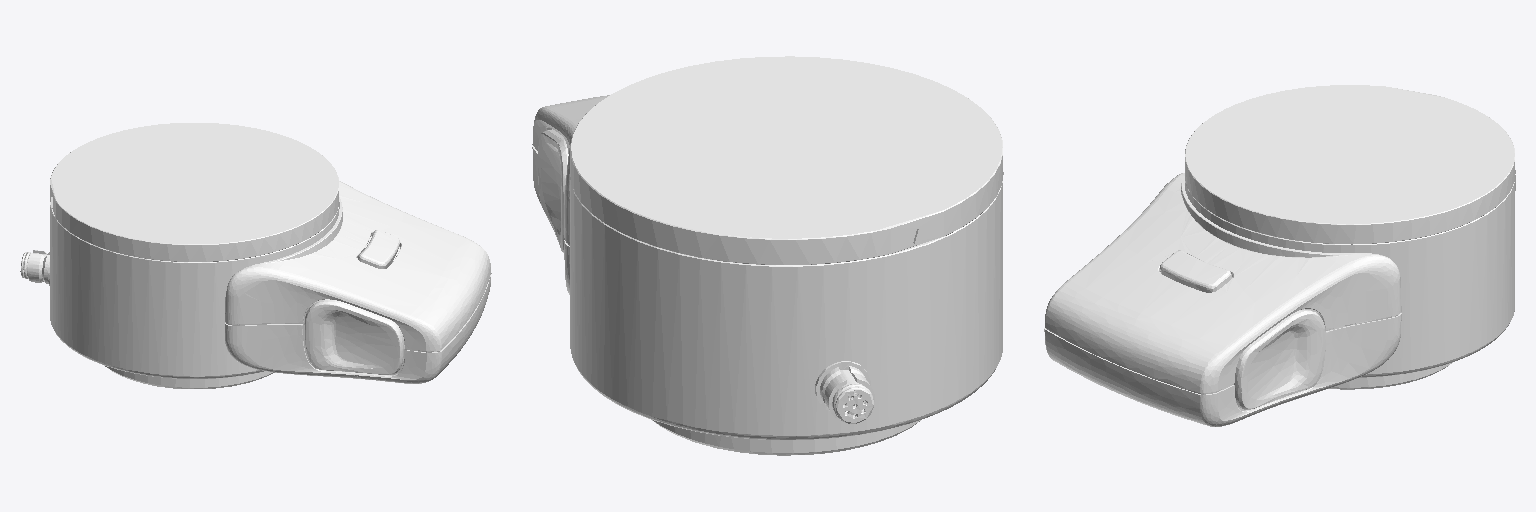
URDF robot description (panda):
<?xml version="1.0"?>
<!-- =================================================================================== -->
<!-- |    This document was autogenerated by xacro from panda_arm.urdf.xacro           | -->
<!-- |    EDITING THIS FILE BY HAND IS NOT RECOMMENDED                                 | -->
<!-- =================================================================================== -->
<robot name="panda">
  <link name="world"/>
  <joint name="panda_joint_world" type="fixed">
    <parent link="world"/>
    <child link="panda_link0"/>
    <origin rpy="0 0 0" xyz="0 0 0"/>
  </joint>
  <link name="panda_link0">
    <inertial>
      <mass value="2.92"/>
      <origin rpy="0 0 0" xyz="-0.025566 -2.88e-05 0.057332"/>
      <inertia ixx="0.00782229414331" ixy="-1.56191622996e-05" ixz="-0.00126005738123" iyy="0.0109027971813" iyz="1.08233858202e-05" izz="0.0102355503949"/>
    </inertial>
    <visual>
      <origin rpy="0 0 0" xyz="0 0 0"/>
      <geometry>
        <mesh filename="meshes/visual/link0.dae"/>
      </geometry>
      <material name="">
        <color rgba="1 1 1 1"/>
      </material>
    </visual>
    <collision>
      <origin rpy="0 0 0" xyz="0 0 0"/>
      <geometry>
        <mesh filename="meshes/collision/link0.stl"/>
      </geometry>
    </collision>
  </link>
  <link name="panda_link1">
    <inertial>
      <mass value="2.74"/>
      <origin rpy="0 0 0" xyz="0 -0.0324958 -0.0675818"/>
      <inertia ixx="0.0180416958283" ixy="0.0" ixz="0.0" iyy="0.0159136071891" iyz="0.0046758424612" izz="0.00620690827127"/>
    </inertial>
    <visual>
      <origin rpy="0 0 0" xyz="0 0 0"/>
      <geometry>
        <mesh filename="meshes/visual/link1.obj"/>
      </geometry>
      <material name="">
        <color rgba="1 1 1 1"/>
      </material>
    </visual>
    <collision>
      <origin rpy="0 0 0" xyz="0 0 0"/>
      <geometry>
        <mesh filename="meshes/collision/link1.stl"/>
      </geometry>
    </collision>
  </link>
  <joint name="panda_joint1" type="revolute">
    <safety_controller k_position="100.0" k_velocity="40.0" soft_lower_limit="-2.8973" soft_upper_limit="2.8973"/>
    <origin rpy="0 0 0" xyz="0 0 0.333"/>
    <parent link="panda_link0"/>
    <child link="panda_link1"/>
    <axis xyz="0 0 1"/>
    <limit effort="87" lower="-2.8973" upper="2.8973" velocity="2.1750"/>
  </joint>
  <link name="panda_link2">
    <inertial>
      <mass value="2.74"/>
      <origin rpy="0 0 0" xyz="0 -0.06861 0.0322285"/>
      <inertia ixx="0.0182856182281" ixy="0.0" ixz="0.0" iyy="0.00621358421175" iyz="-0.00472844221905" izz="0.0161514346309"/>
    </inertial>
    <visual>
      <origin rpy="0 0 0" xyz="0 0 0"/>
      <geometry>
        <mesh filename="meshes/visual/link2.obj"/>
      </geometry>
      <material name="">
        <color rgba="1 1 1 1"/>
      </material>
    </visual>
    <collision>
      <origin rpy="0 0 0" xyz="0 0 0"/>
      <geometry>
        <mesh filename="meshes/collision/link2.stl"/>
      </geometry>
    </collision>
  </link>
  <joint name="panda_joint2" type="revolute">
    <safety_controller k_position="100.0" k_velocity="40.0" soft_lower_limit="-1.7628" soft_upper_limit="1.7628"/>
    <origin rpy="-1.57079632679 0 0" xyz="0 0 0"/>
    <parent link="panda_link1"/>
    <child link="panda_link2"/>
    <axis xyz="0 0 1"/>
    <limit effort="87" lower="-1.7628" upper="1.7628" velocity="2.1750"/>
  </joint>
  <link name="panda_link3">
    <inertial>
      <mass value="2.38"/>
      <origin rpy="0 0 0" xyz="0.0469893 0.0316374 -0.031704"/>
      <inertia ixx="0.00771376630908" ixy="-0.00248490625138" ixz="-0.00332147581033" iyy="0.00989108008727" iyz="-0.00217796151484" izz="0.00811723558464"/>
    </inertial>
    <visual>
      <origin rpy="0 0 0" xyz="0 0 0"/>
      <geometry>
        <mesh filename="meshes/visual/link3.obj"/>
      </geometry>
      <material name="panda_white"/>
    </visual>
    <collision>
      <origin rpy="0 0 0" xyz="0 0 0"/>
      <geometry>
        <mesh filename="meshes/collision/link3.stl"/>
      </geometry>
    </collision>
  </link>
  <joint name="panda_joint3" type="revolute">
    <safety_controller k_position="100.0" k_velocity="40.0" soft_lower_limit="-2.8973" soft_upper_limit="2.8973"/>
    <origin rpy="1.57079632679 0 0" xyz="0 -0.316 0"/>
    <parent link="panda_link2"/>
    <child link="panda_link3"/>
    <axis xyz="0 0 1"/>
    <limit effort="87" lower="-2.8973" upper="2.8973" velocity="2.1750"/>
  </joint>
  <link name="panda_link4">
    <inertial>
      <mass value="2.38"/>
      <origin rpy="0 0 0" xyz="-0.0360446 0.0336853 0.031882"/>
      <inertia ixx="0.00799663881132" ixy="0.00347095570217" ixz="-0.00241222942995" iyy="0.00825390705278" iyz="0.00235774044121" izz="0.0102515004345"/>
    </inertial>
    <visual>
      <origin rpy="0 0 0" xyz="0 0 0"/>
      <geometry>
        <mesh filename="meshes/visual/link4.obj"/>
      </geometry>
      <material name="">
        <color rgba="1 1 1 1"/>
      </material>
    </visual>
    <collision>
      <origin rpy="0 0 0" xyz="0 0 0"/>
      <geometry>
        <mesh filename="meshes/collision/link4.stl"/>
      </geometry>
    </collision>
  </link>
  <joint name="panda_joint4" type="revolute">
    <safety_controller k_position="100.0" k_velocity="40.0" soft_lower_limit="-3.0718" soft_upper_limit="0.0698"/>
    <!-- soft_upper_limitr should be -0.0698, but that brakes simulation when initial position for this joint is 0.0 -->
    <origin rpy="1.57079632679 0 0" xyz="0.0825 0 0"/>
    <parent link="panda_link3"/>
    <child link="panda_link4"/>
    <axis xyz="0 0 1"/>
    <limit effort="87" lower="-3.0718" upper="0.0698" velocity="2.1750"/>
    <!-- upper should be -0.0698, but that brakes simulation when initial position for this joint is 0.0 -->
  </joint>
  <link name="panda_link5">
    <inertial>
      <mass value="2.74"/>
      <origin rpy="0 0 0" xyz="0 0.0610427 -0.104176"/>
      <inertia ixx="0.030371374513" ixy="6.50283587108e-07" ixz="-1.05129179916e-05" iyy="0.0288752887402" iyz="-0.00775653445787" izz="0.00444134056164"/>
    </inertial>
    <visual>
      <origin rpy="0 0 0" xyz="0 0 0"/>
      <geometry>
        <mesh filename="meshes/visual/link5.obj"/>
      </geometry>
      <material name="">
        <color rgba="1 1 1 1"/>
      </material>
    </visual>
    <collision>
      <origin rpy="0 0 0" xyz="0 0 0"/>
      <geometry>
        <mesh filename="meshes/collision/link5.stl"/>
      </geometry>
    </collision>
  </link>
  <joint name="panda_joint5" type="revolute">
    <safety_controller k_position="100.0" k_velocity="40.0" soft_lower_limit="-2.8973" soft_upper_limit="2.8973"/>
    <origin rpy="-1.57079632679 0 0" xyz="-0.0825 0.384 0"/>
    <parent link="panda_link4"/>
    <child link="panda_link5"/>
    <axis xyz="0 0 1"/>
    <limit effort="12" lower="-2.8973" upper="2.8973" velocity="2.6100"/>
  </joint>
  <link name="panda_link6">
    <inertial>
      <mass value="1.55"/>
      <origin rpy="0 0 0" xyz="0.0510509 0.009108 0.0106343"/>
      <inertia ixx="0.00303336450376" ixy="-0.000437276865508" ixz="0.000629257294877" iyy="0.00404479911567" iyz="0.000130472021025" izz="0.00558234286039"/>
    </inertial>
    <visual>
      <origin rpy="0 0 0" xyz="0 0 0"/>
      <geometry>
        <mesh filename="meshes/visual/link6.obj"/>
      </geometry>
      <material name="">
        <color rgba="1 1 1 1"/>
      </material>
    </visual>
    <collision>
      <origin rpy="0 0 0" xyz="0 0 0"/>
      <geometry>
        <mesh filename="meshes/collision/link6.stl"/>
      </geometry>
    </collision>
  </link>
  <joint name="panda_joint6" type="revolute">
    <safety_controller k_position="100.0" k_velocity="40.0" soft_lower_limit="-0.0175" soft_upper_limit="3.7525"/>
    <origin rpy="1.57079632679 0 0" xyz="0 0 0"/>
    <parent link="panda_link5"/>
    <child link="panda_link6"/>
    <axis xyz="0 0 1"/>
    <limit effort="12" lower="-0.0175" upper="3.7525" velocity="2.6100"/>
  </joint>
  <link name="panda_link7">
    <inertial>
      <mass value="0.54"/>
      <origin rpy="0 0 0" xyz="0.0109695 0.0107965 0.0650411"/>
      <inertia ixx="0.000888868887021" ixy="-0.00012239074652" ixz="3.98699829666e-05" iyy="0.000888001373233" iyz="-9.33825115206e-05" izz="0.0007176834609"/>
    </inertial>
    <visual>
      <origin rpy="0 0 0" xyz="0 0 0"/>
      <geometry>
        <mesh filename="meshes/visual/link7.dae"/>
      </geometry>
      <material name="">
        <color rgba="1 1 1 1"/>
      </material>
    </visual>
    <collision>
      <origin rpy="0 0 0" xyz="0 0 0"/>
      <geometry>
        <mesh filename="meshes/collision/link7.stl"/>
      </geometry>
    </collision>
  </link>
  <joint name="panda_joint7" type="revolute">
    <safety_controller k_position="100.0" k_velocity="40.0" soft_lower_limit="-2.8973" soft_upper_limit="2.8973"/>
    <origin rpy="1.57079632679 0 0" xyz="0.088 0 0"/>
    <parent link="panda_link6"/>
    <child link="panda_link7"/>
    <axis xyz="0 0 1"/>
    <limit effort="12" lower="-2.8973" upper="2.8973" velocity="2.6100"/>
  </joint>
</robot>

--- Facts derived from the render (not from the file) ---
3 views of the same robot in one strip: view 1: azimuth 30°, elevation 25°; view 2: azimuth 150°, elevation 25°; view 3: azimuth 270°, elevation 25° (orthographic).
Model panda with 9 links and 8 joints (7 revolute, 1 fixed), rooted at world, posed every joint at zero.
Visible links, largest first — view 1: panda_link7; view 2: panda_link7; view 3: panda_link7.
Link boxes in pixels (bbox=[...]): panda_link7: bbox=[20, 123, 491, 388]; panda_link7: bbox=[532, 56, 1003, 455]; panda_link7: bbox=[1044, 85, 1515, 426].
Size in the robot's own frame: 0.1253 by 0.1253 by 0.0548 metres.
Meshes: 8 distinct files referenced, 1 mesh visuals loaded (1 Collada DAE); not drawn: 7 (reference not matched to a file when rendering).